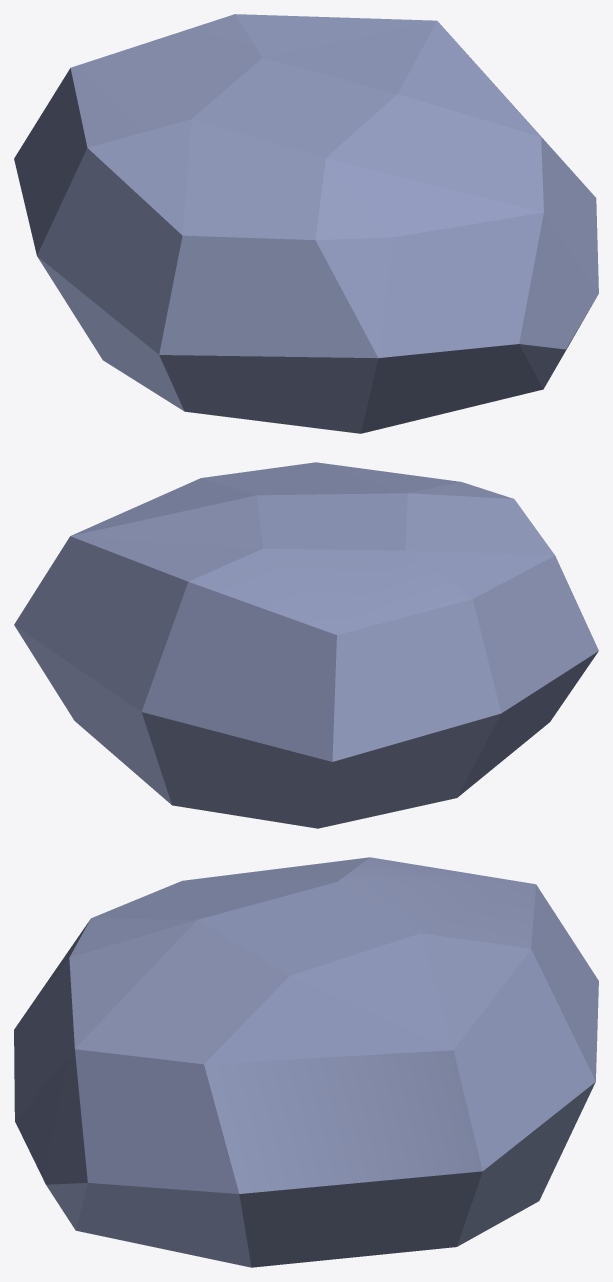
The model's file is Stone_6.fbx.
3 renders of one model, top to bottom at view 1: azimuth 30°, elevation 25°; view 2: azimuth 150°, elevation 25°; view 3: azimuth 270°, elevation 25°, orthographic. The views are drawn at different scales.
Parts seen in each view (by area): view 1: Stone_6; view 2: Stone_6; view 3: Stone_6.
Boxes of the visible parts, left/top/right/bottom form: Stone_6: left=14, top=14, right=598, bottom=433; Stone_6: left=14, top=462, right=598, bottom=828; Stone_6: left=14, top=857, right=598, bottom=1267.
Size of the model in its own units: 0.85 by 0.4494 by 0.8667.
